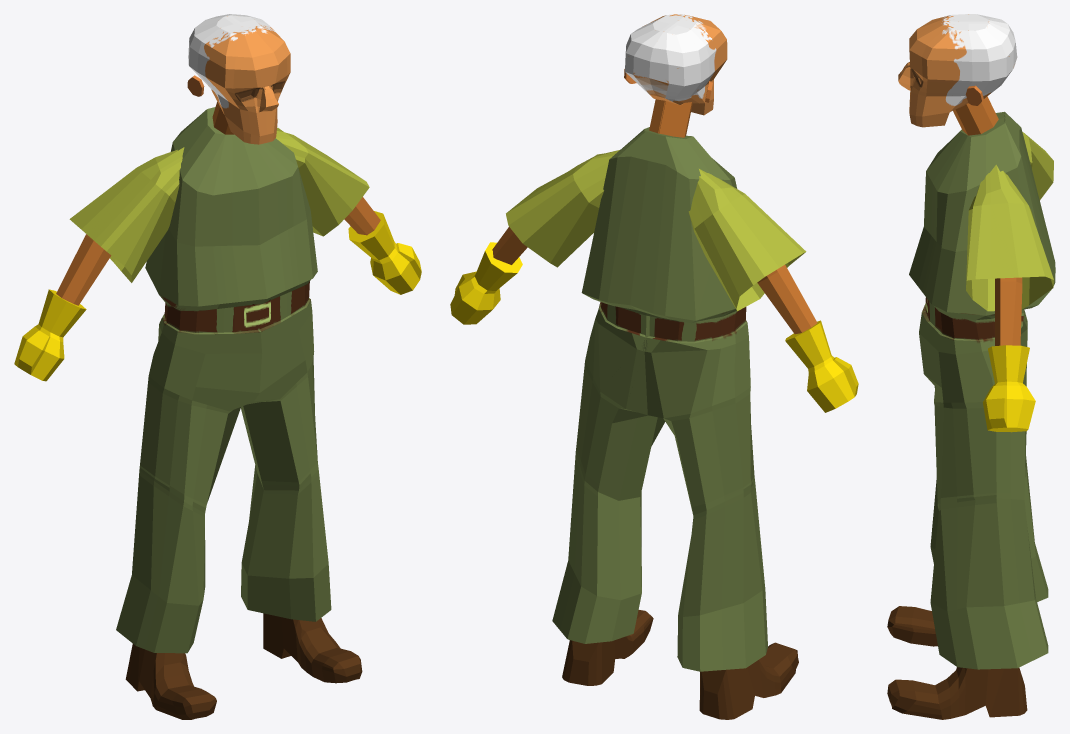
File: Janitor_002fusionné.fbx
3 renders of one model, left to right at view 1: azimuth 30°, elevation 25°; view 2: azimuth 150°, elevation 25°; view 3: azimuth 270°, elevation 25°, orthographic.
Visible parts, largest first — view 1: Cube; view 2: Cube; view 3: Cube.
Boxes of the visible parts, x1=… form: Cube: x1=14, y1=14, x2=421, y2=719; Cube: x1=450, y1=14, x2=858, y2=719; Cube: x1=887, y1=14, x2=1055, y2=719.
Size of the model in its own units: 263 by 411 by 95.91.
Materials: 8 (4 with a texture image).
